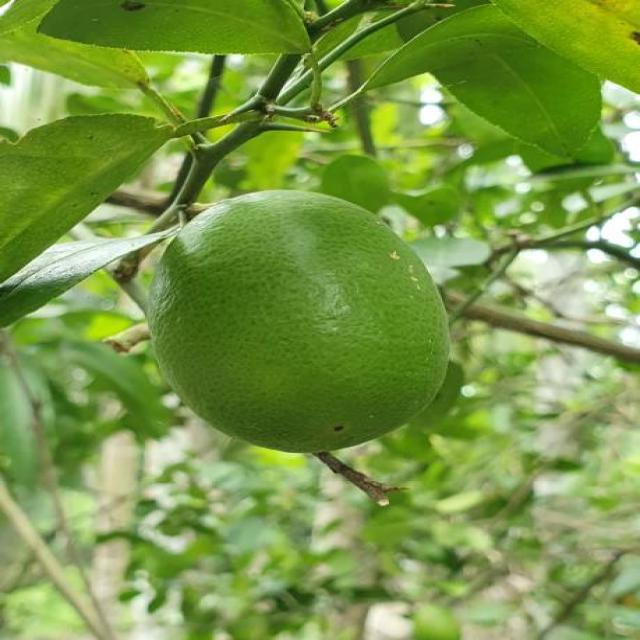Unripe: (154, 189, 452, 453)
